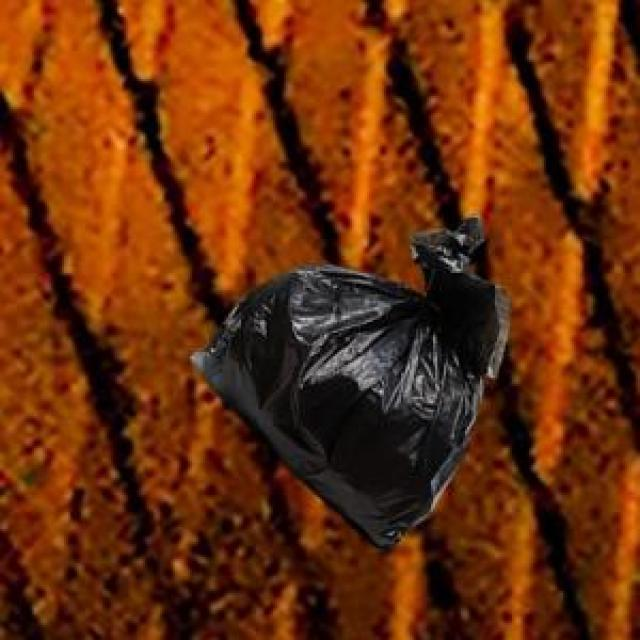waste: (191, 218, 510, 548)
